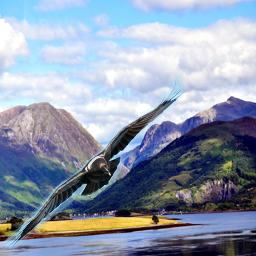Crow: (1, 76, 187, 249)
